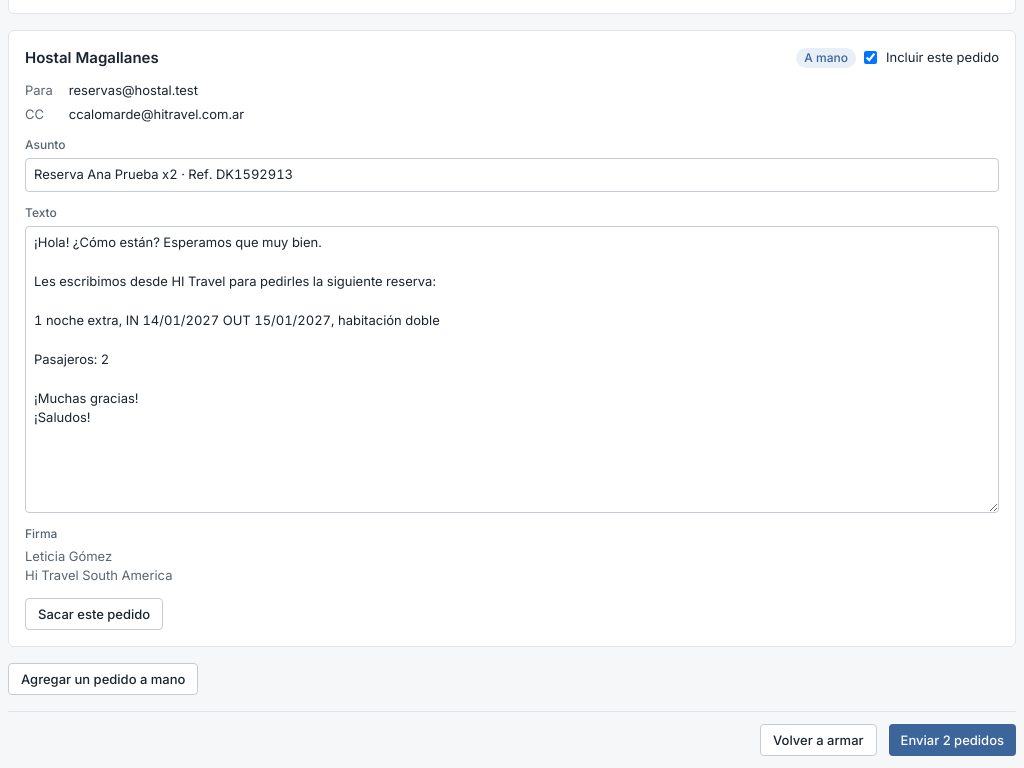
Test case: sacar (fila 8) › cancelar no saca nada; si la base no lo deja, lo dice
(page scrolled)
Click the button "Sacar este pedido" at (94, 614), box left=25, top=598, right=163, bottom=630
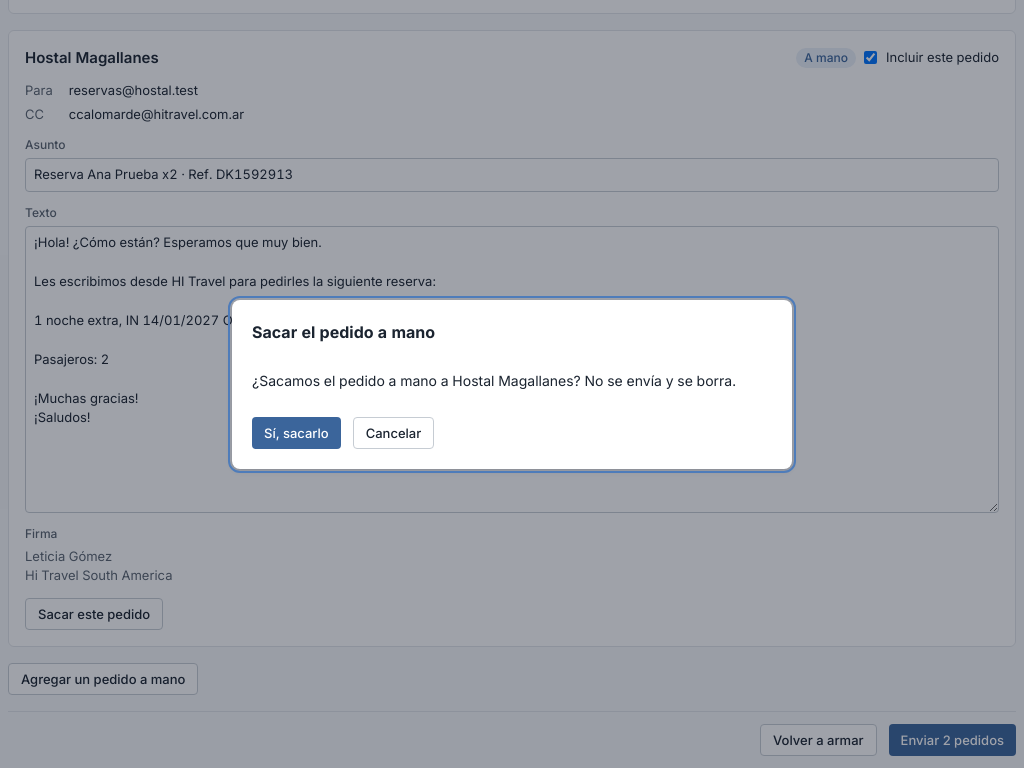
Click the button "Cancelar" at (394, 432), box left=353, top=416, right=434, bottom=448
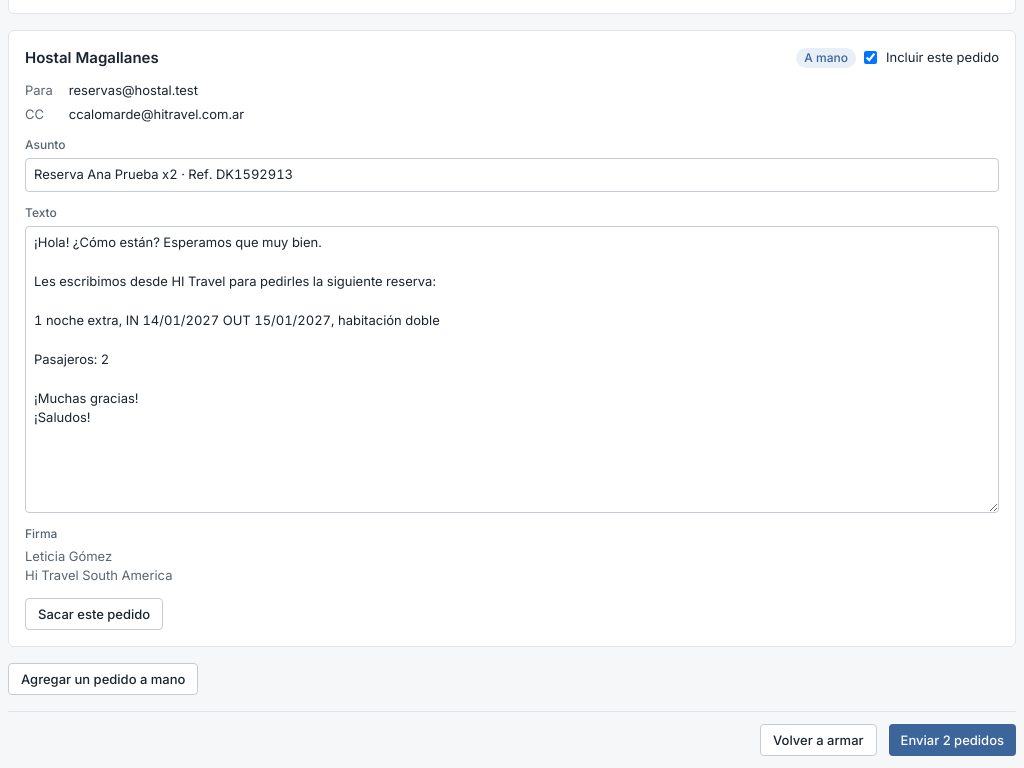
Check: the dialog is gone
Click the button "Sacar este pedido" at (94, 614), box left=25, top=598, right=163, bottom=630
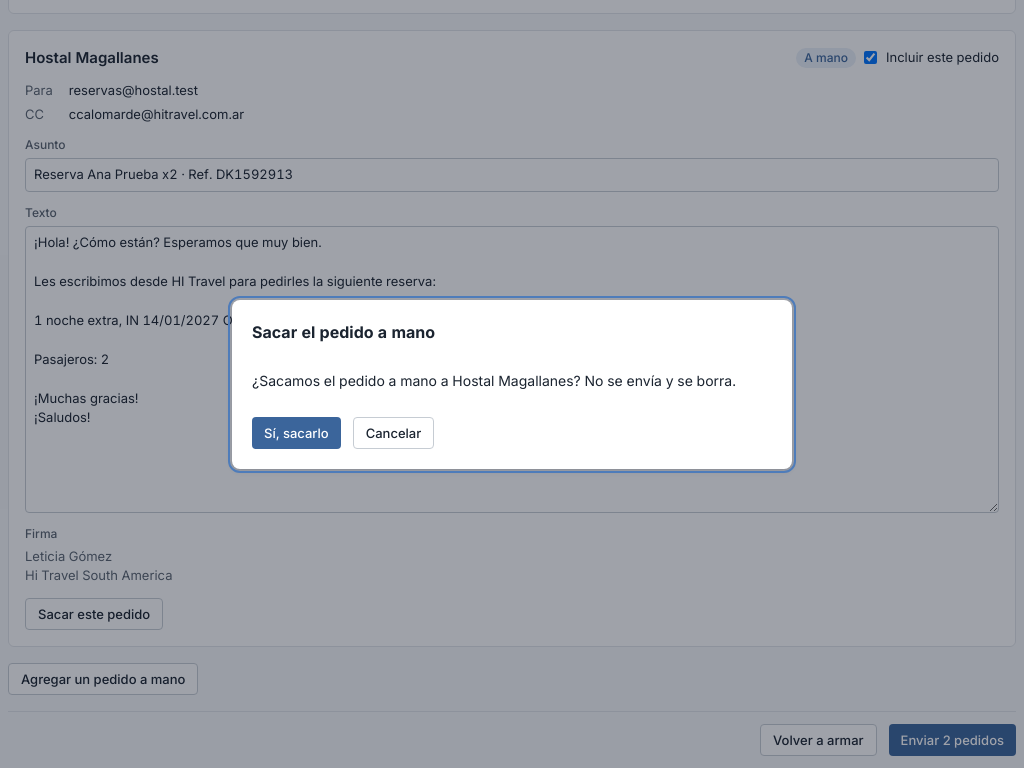
Click the button "Sí, sacarlo" at (296, 432), box left=252, top=416, right=341, bottom=448
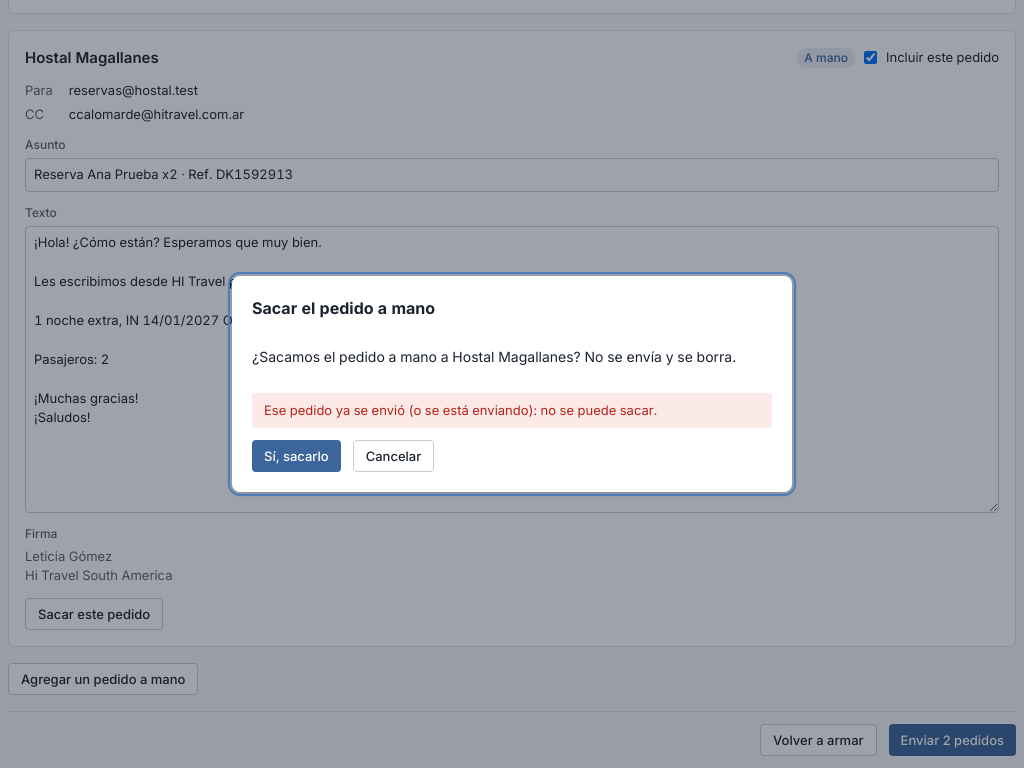
Check: the text "Ese pedido ya se envió (o se está enviando): no se puede sacar." is shown, box left=252, top=393, right=772, bottom=428
